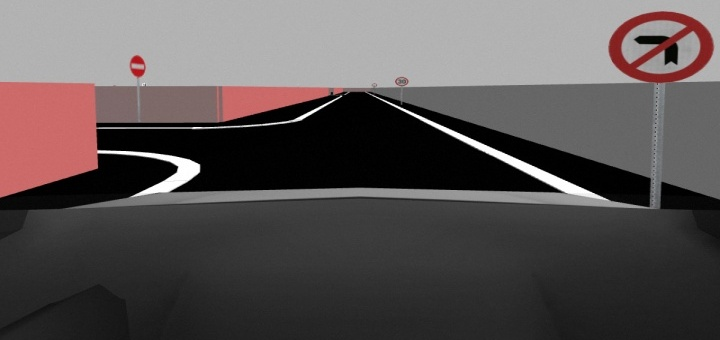girilmez: (125, 53, 152, 80)
sola_donulmez: (609, 12, 714, 85)
